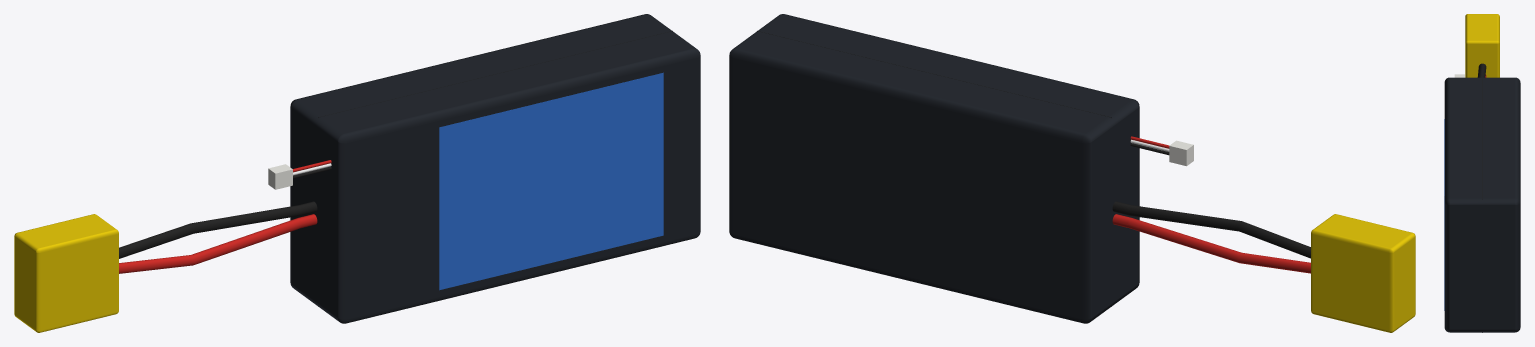
The model's file is lipo-2s-1500.glb.
3 views of the same model, side by side, from view 1: azimuth 30°, elevation 25°; view 2: azimuth 150°, elevation 25°; view 3: azimuth 270°, elevation 25° (orthographic). The views are drawn at different scales.
Parts seen in each view (by area): view 1: body, label, connector, lead_red, lead_black, balance_plug; view 2: body, connector, lead_red, lead_black, balance_plug; view 3: body, connector, label, cell_seam_1, lead_black.
Part boxes in pixels (x1,y1,x2,y2): body: (290, 14, 700, 323); label: (439, 72, 663, 290); connector: (14, 214, 118, 332); lead_red: (119, 214, 317, 273); lead_black: (119, 201, 317, 258); balance_plug: (268, 164, 292, 189); body: (729, 14, 1139, 323); connector: (1311, 214, 1415, 332); lead_red: (1112, 214, 1310, 273); lead_black: (1112, 201, 1310, 258); balance_plug: (1169, 140, 1193, 166); body: (1444, 77, 1520, 332); connector: (1465, 14, 1499, 77); label: (1444, 119, 1444, 310); cell_seam_1: (1482, 77, 1482, 332); lead_black: (1477, 63, 1486, 77).
Bounding box in the file's own units: 126 × 35.04 × 18.04.
